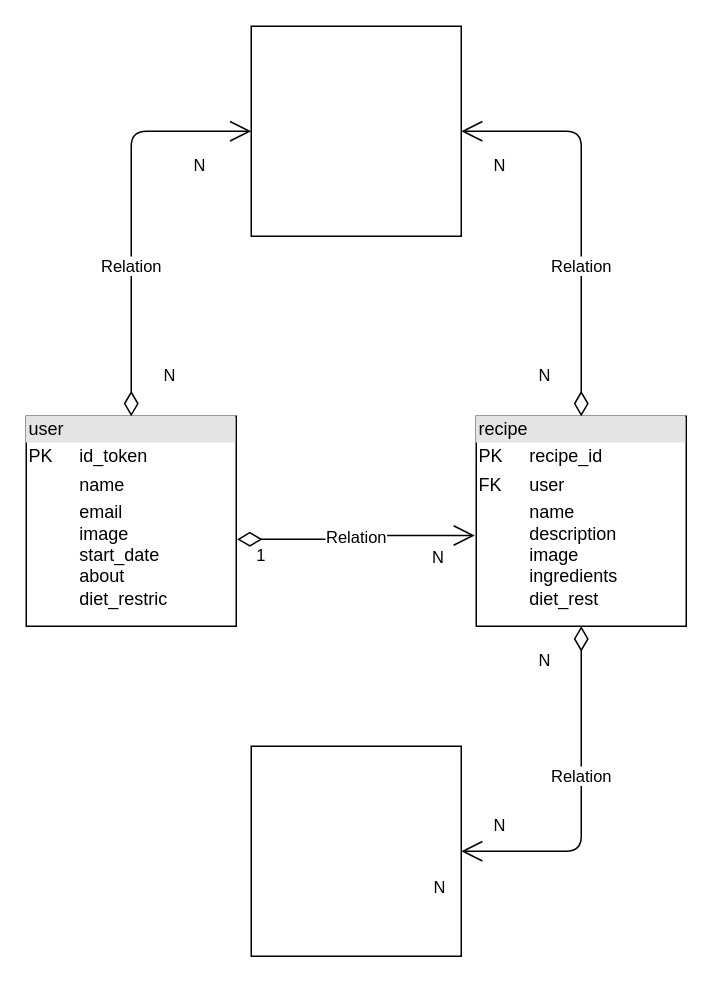
Image size: 713x983. Some labels were removed from this diagram. The centre of each missing label's shape, as x and y in pixels:
dietary_restriction PK diet_ret_id name description: point (355, 130)
ingredient PK ingredient_id name: point (355, 850)
